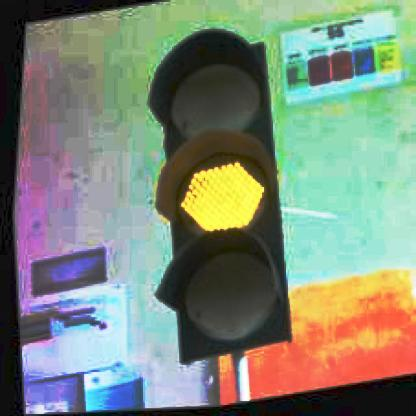Traffic Light -Yellow-: (124, 20, 309, 365)
